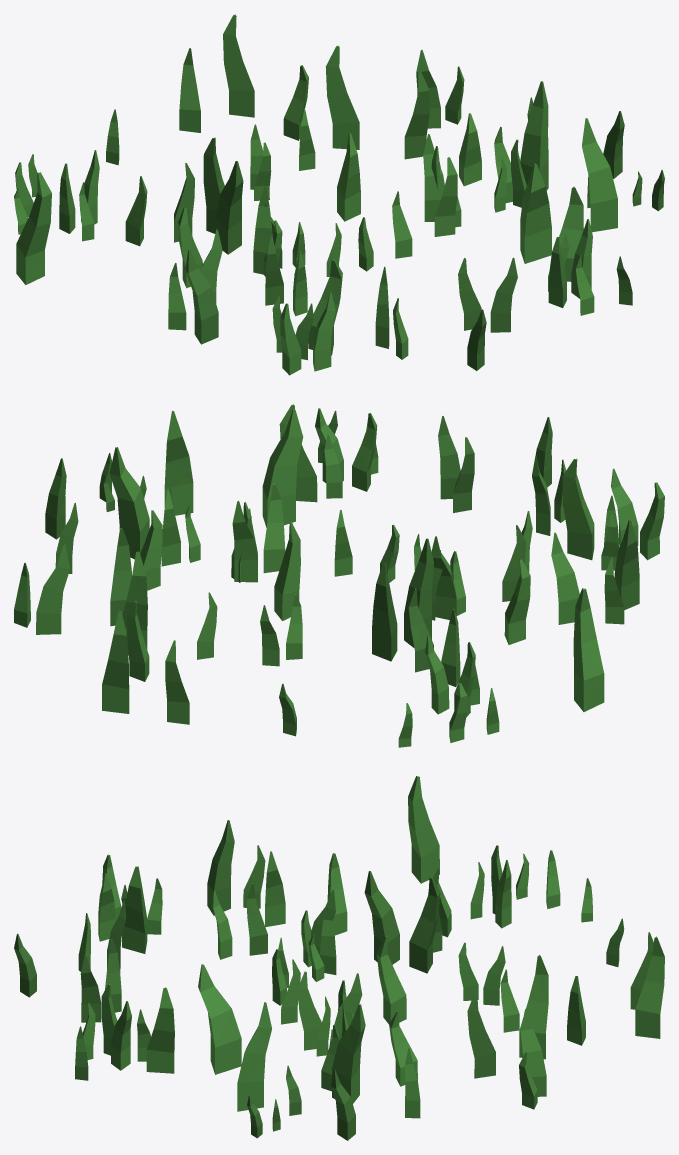
The model's file is Grass 3.fbx.
The picture shows the model from 3 angles, top to bottom: view 1: azimuth 30°, elevation 25°; view 2: azimuth 150°, elevation 25°; view 3: azimuth 270°, elevation 25°; orthographic projection. The views are drawn at different scales.
Visible parts, largest first — view 1: Grass group 3; view 2: Grass group 3; view 3: Grass group 3.
Boxes of the visible parts, x1=… form: Grass group 3: x1=14, y1=14, x2=664, y2=375; Grass group 3: x1=14, y1=404, x2=664, y2=747; Grass group 3: x1=14, y1=776, x2=664, y2=1140.
Bounding box in the file's own units: 7.97 × 1.44 × 8.17.
